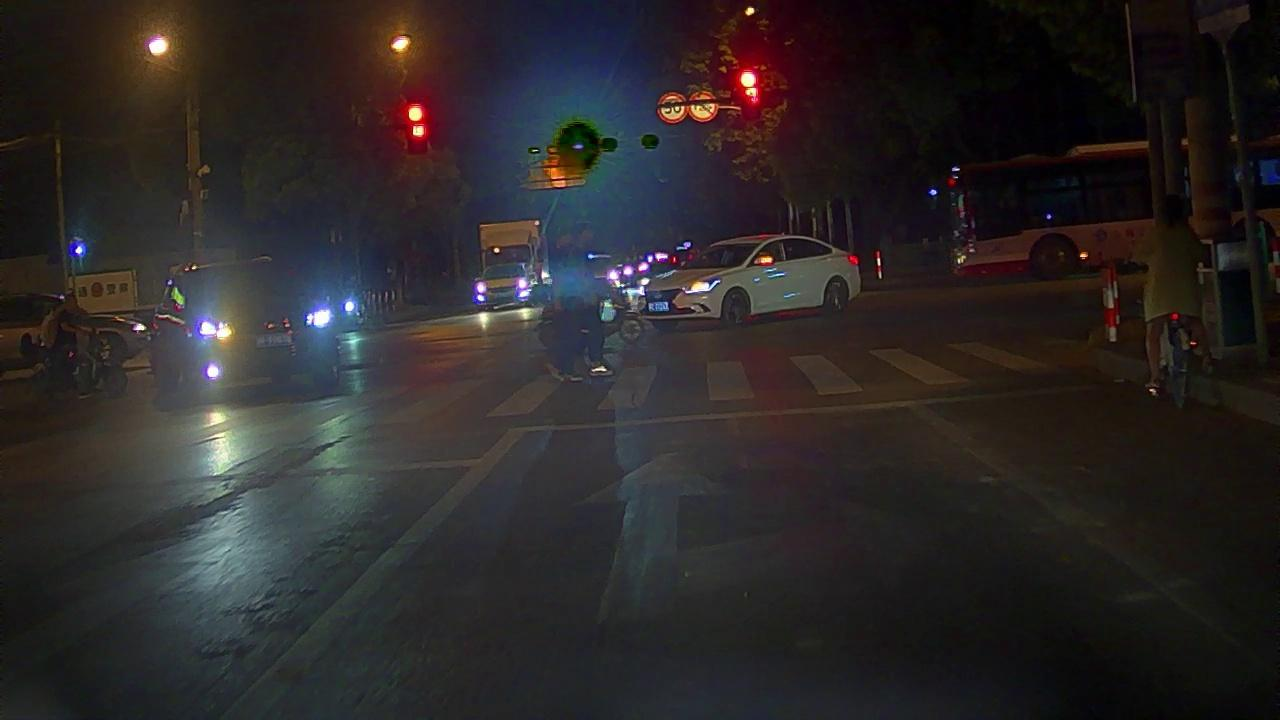traffic_light: (402, 100, 430, 145), (736, 68, 762, 106)
